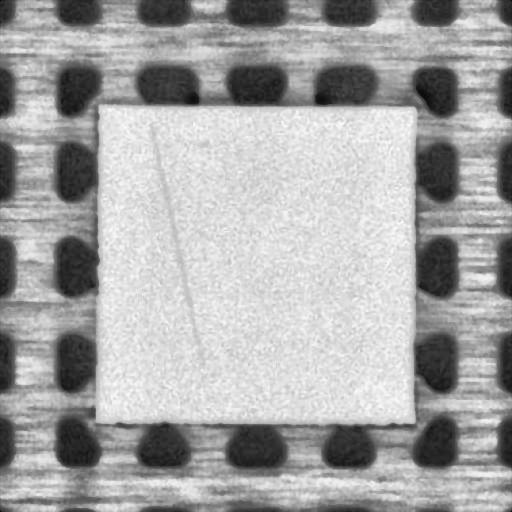DIE_CRACK: (150, 126, 206, 360)
